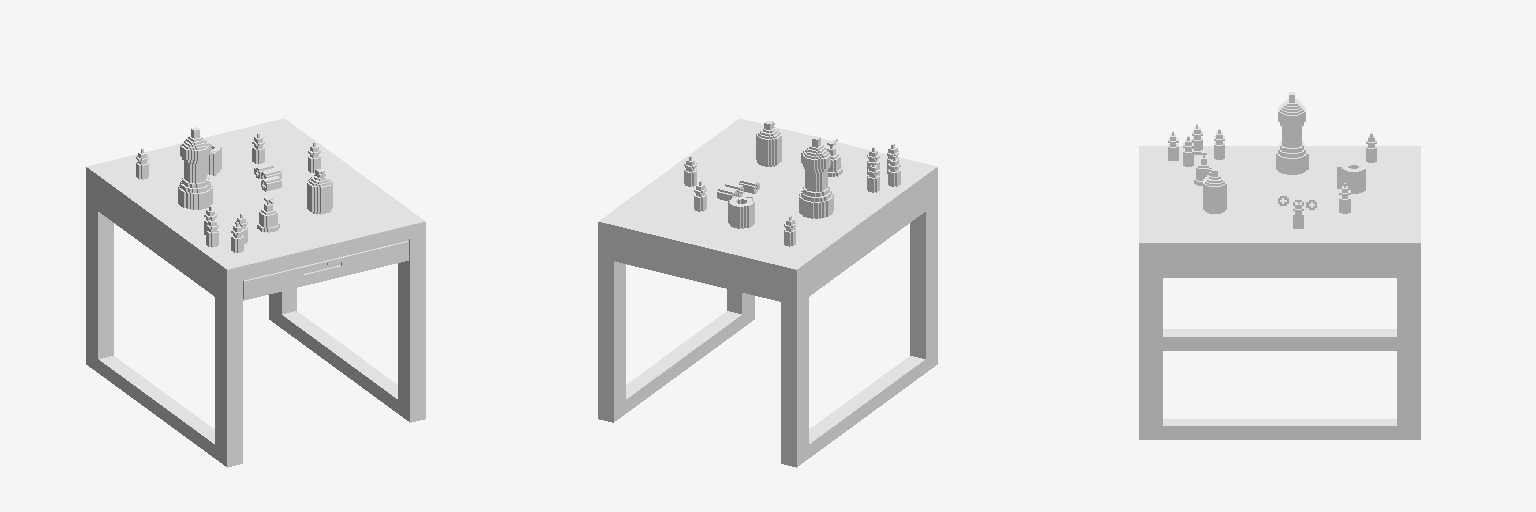
The model's file is MesaEsterelizacao.obj.
3 renders of one model, left to right at view 1: azimuth 30°, elevation 25°; view 2: azimuth 150°, elevation 25°; view 3: azimuth 270°, elevation 25°, orthographic.
Visible parts, largest first — view 1: object 1; view 2: object 1; view 3: object 1.
Boxes of the visible parts, box(x1,y1,x2,y2) form: object 1: box(86, 118, 425, 467); object 1: box(598, 118, 937, 467); object 1: box(1139, 92, 1420, 439).
Bounding box in the file's own units: 10.4 × 13.6 × 12.8.